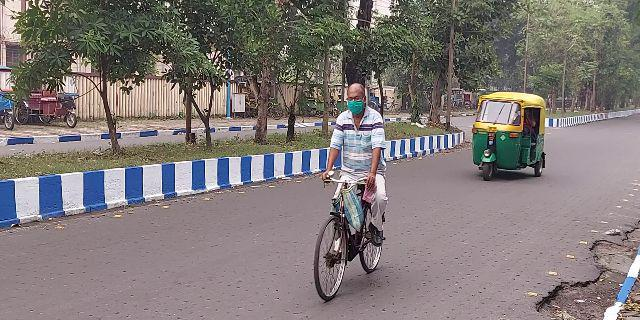Autorickshaw: (470, 89, 549, 187)
Cycle: (307, 71, 395, 303)
